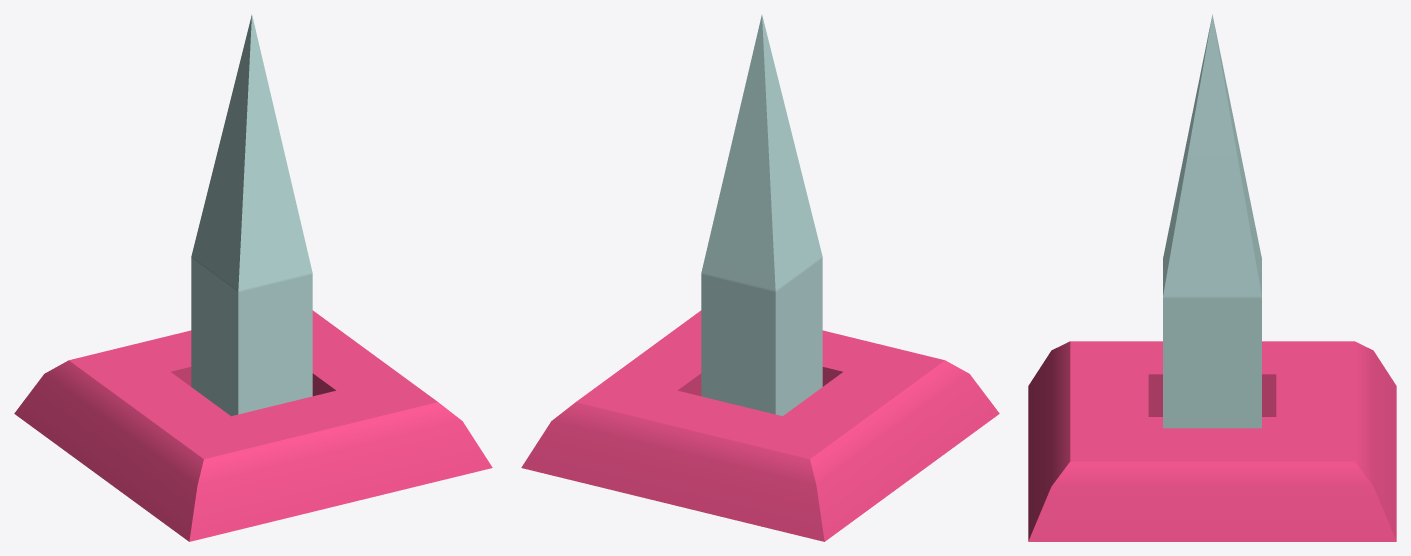
Rendered from obstacle_model_1.fbx.
3 views of the same model, side by side, from view 1: azimuth 30°, elevation 25°; view 2: azimuth 150°, elevation 25°; view 3: azimuth 270°, elevation 25° (orthographic). The views are drawn at different scales.
Visible parts, largest first — view 1: pCube4, keskin; view 2: pCube4, keskin; view 3: pCube4, keskin.
Part boxes in pixels (x1=…): pCube4: x1=14, y1=310, x2=492, y2=541; keskin: x1=191, y1=15, x2=312, y2=416; pCube4: x1=521, y1=310, x2=999, y2=541; keskin: x1=701, y1=15, x2=822, y2=416; pCube4: x1=1028, y1=341, x2=1396, y2=541; keskin: x1=1163, y1=14, x2=1261, y2=428.
Bounding box in the file's own units: 2.75 × 2.75 × 3.7.
